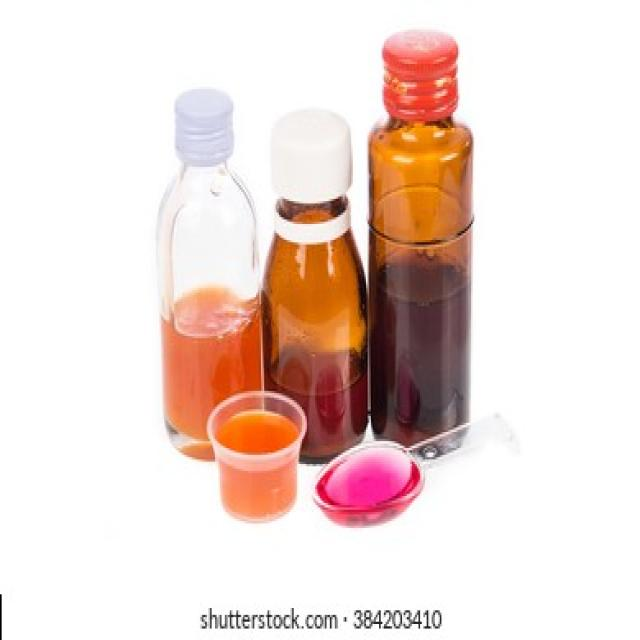B3: (361, 23, 502, 450), (151, 80, 276, 466), (258, 103, 382, 457)
